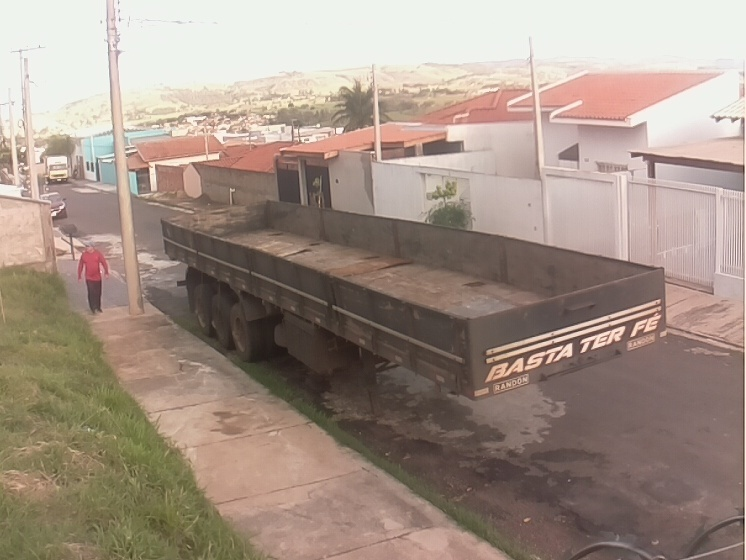person: (76, 239, 113, 317)
